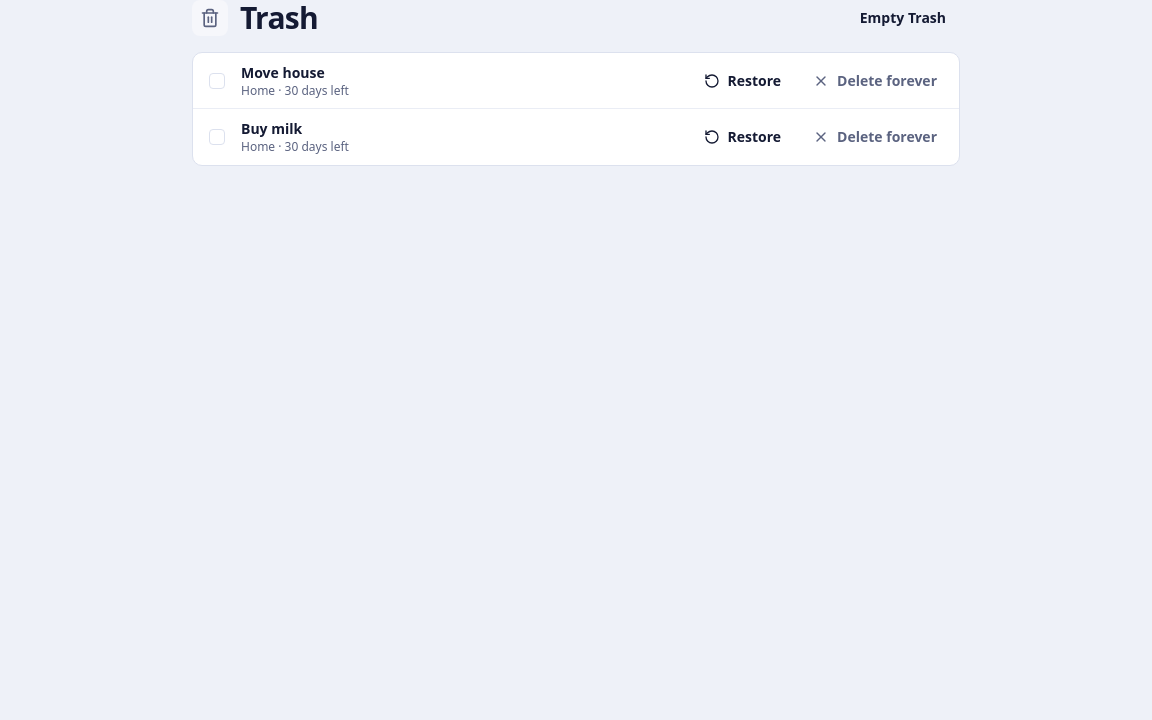
The Trash › empties the Trash once confirmed
Step 1. Click the button "Empty Trash" → (903, 18), box left=846, top=0, right=960, bottom=36
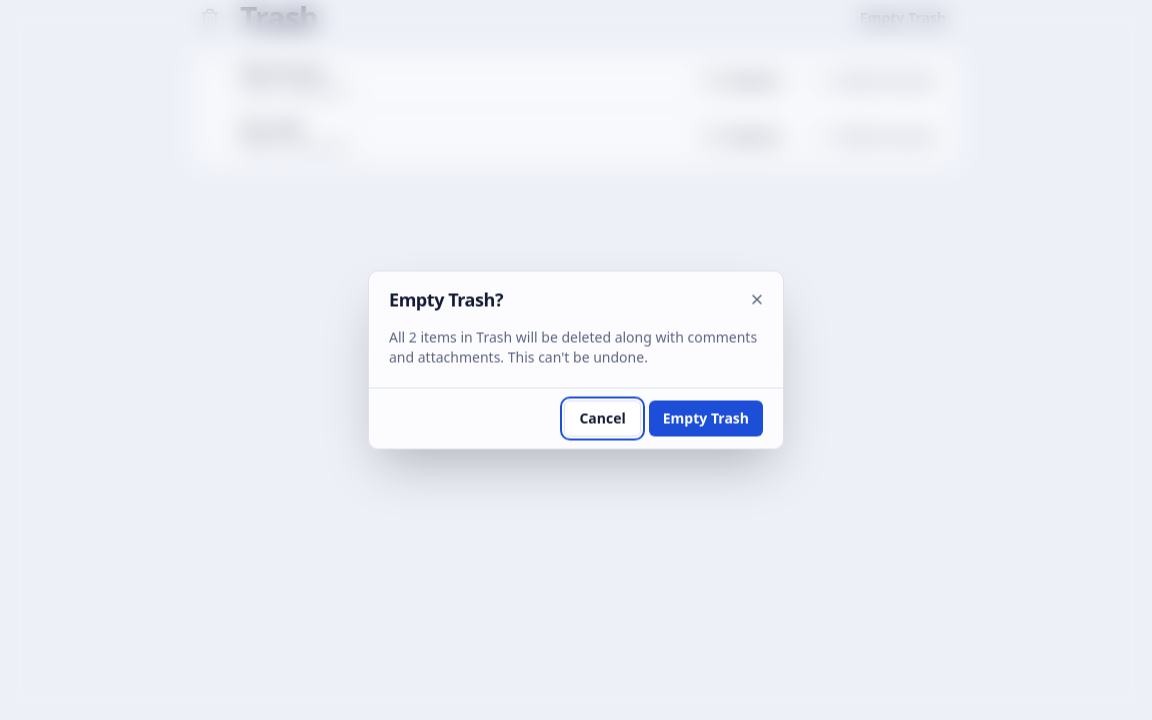
Check: the text "All 2 items in Trash" is shown, box left=389, top=328, right=512, bottom=346
Step 2. Click the button "Empty Trash" → (706, 418), box left=649, top=400, right=763, bottom=436
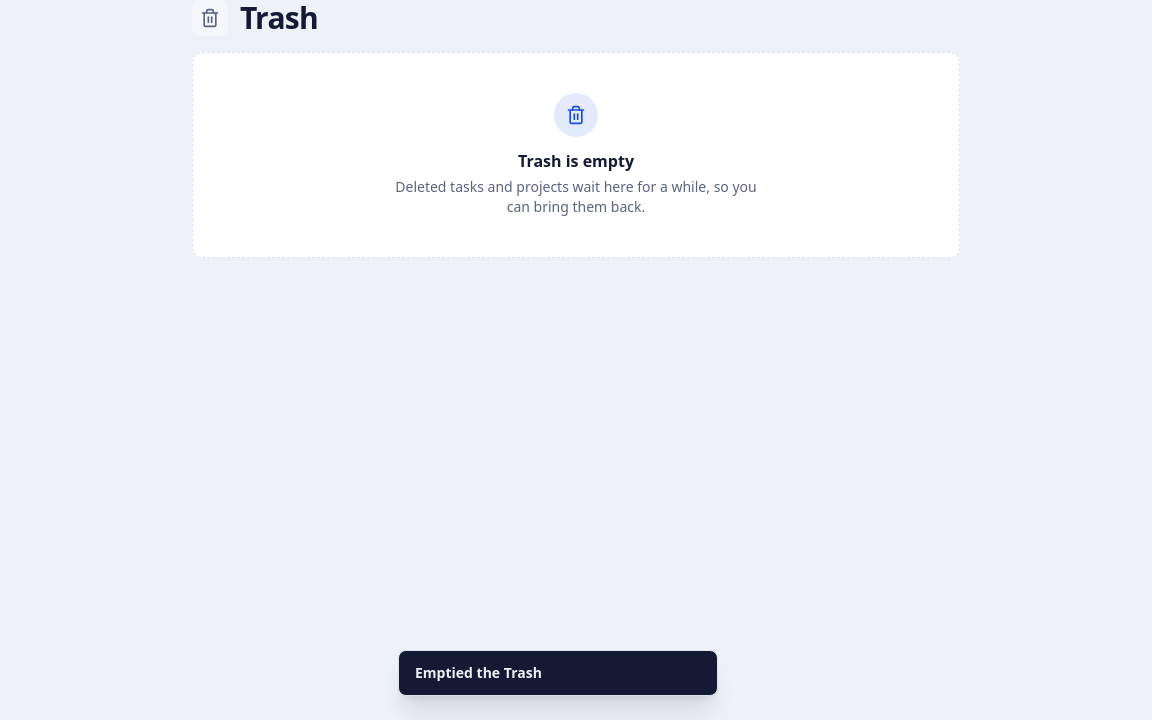
Check: the heading "Trash is empty" is shown, box left=518, top=149, right=634, bottom=173
Check: the button "Empty Trash" is gone
